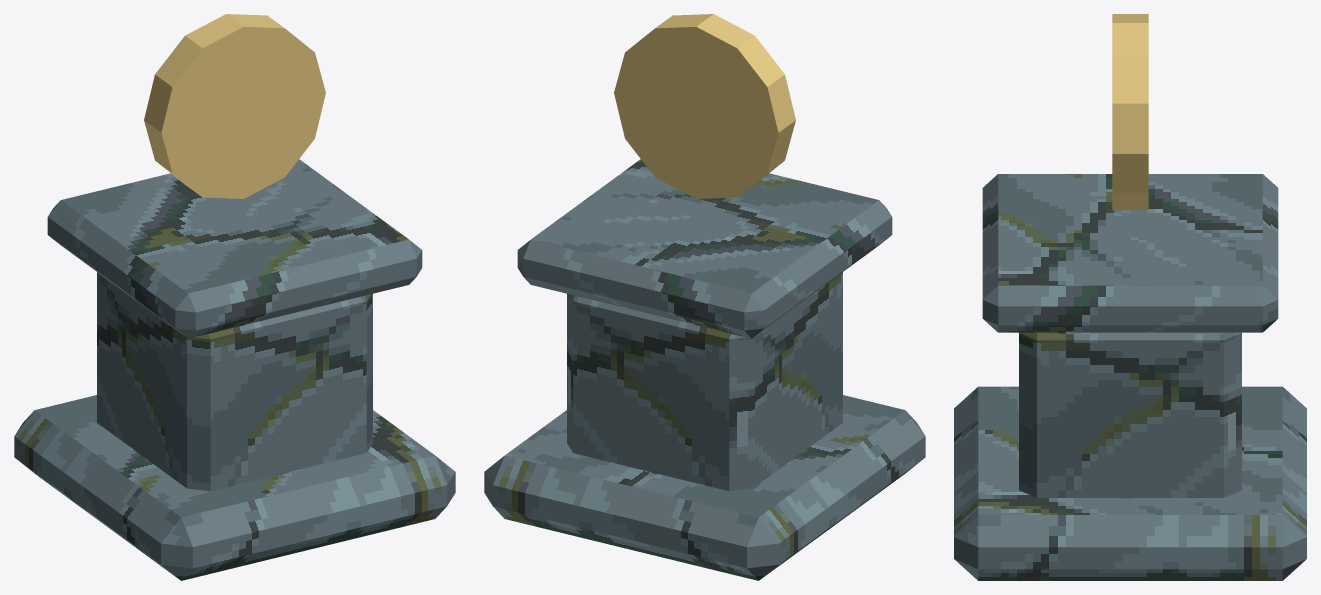
The model's file is pilar_galeao.fbx.
3 renders of one model, left to right at view 1: azimuth 30°, elevation 25°; view 2: azimuth 150°, elevation 25°; view 3: azimuth 270°, elevation 25°, orthographic. The views are drawn at different scales.
Visible parts, largest first — view 1: bosque_pilar_galeao; view 2: bosque_pilar_galeao; view 3: bosque_pilar_galeao.
Boxes of the visible parts, x1=… form: bosque_pilar_galeao: x1=14, y1=14, x2=455, y2=580; bosque_pilar_galeao: x1=484, y1=14, x2=925, y2=580; bosque_pilar_galeao: x1=954, y1=14, x2=1306, y2=580.
Size of the model in its own units: 68 by 105 by 68.
Materials: 2 (1 with a texture image).
